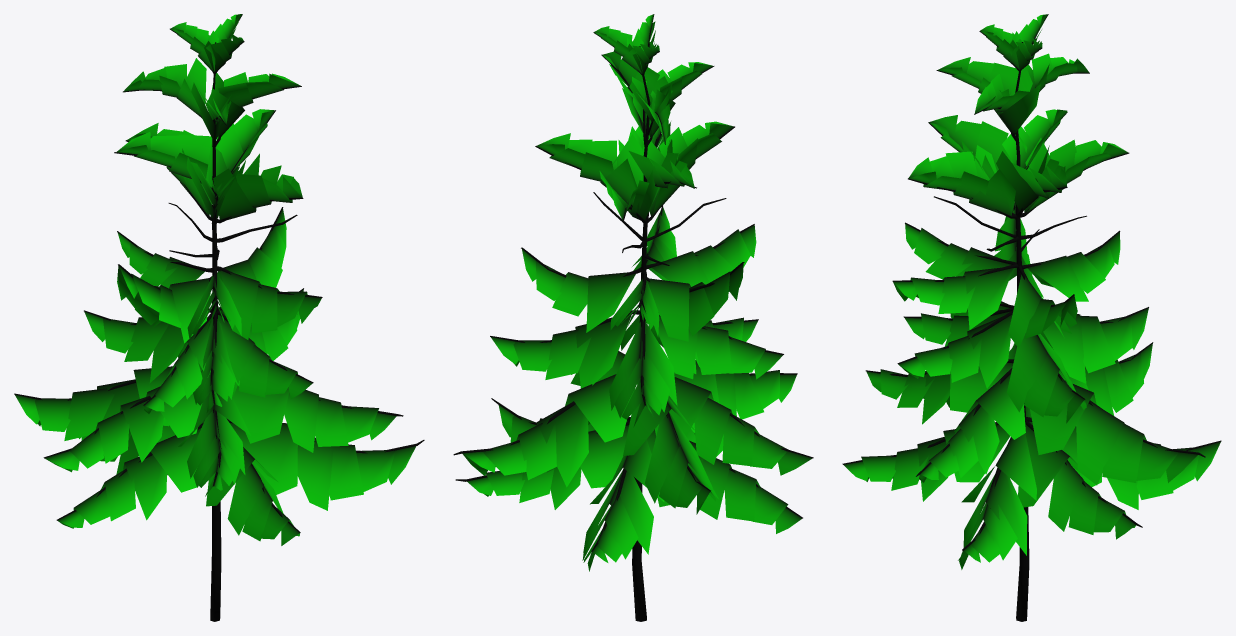
File: Tree_Pine_01.fbx
The picture shows the model from 3 angles, left to right: view 1: azimuth 30°, elevation 25°; view 2: azimuth 150°, elevation 25°; view 3: azimuth 270°, elevation 25°; orthographic projection.
Visible parts, largest first — view 1: IL3DN_Tree_Pine_01_LOD0; view 2: IL3DN_Tree_Pine_01_LOD0; view 3: IL3DN_Tree_Pine_01_LOD0.
Part boxes in pixels (left/top/right/bottom): IL3DN_Tree_Pine_01_LOD0: left=14, top=14, right=424, bottom=621; IL3DN_Tree_Pine_01_LOD0: left=453, top=14, right=813, bottom=621; IL3DN_Tree_Pine_01_LOD0: left=842, top=14, right=1221, bottom=621.
Size of what is drawn, in the model's own units: 309 by 498 by 287.
